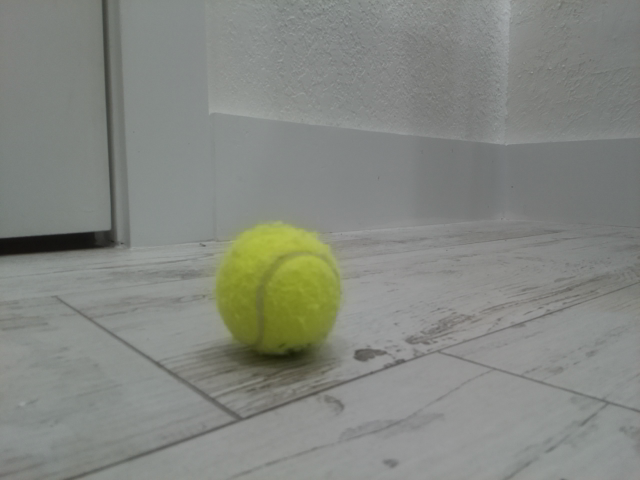yellow-ball: (213, 221, 342, 358)
